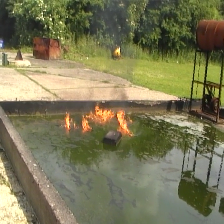fire_h: (85, 105, 115, 123), (117, 109, 133, 136)
fire_l: (65, 112, 77, 133), (81, 115, 92, 133)
